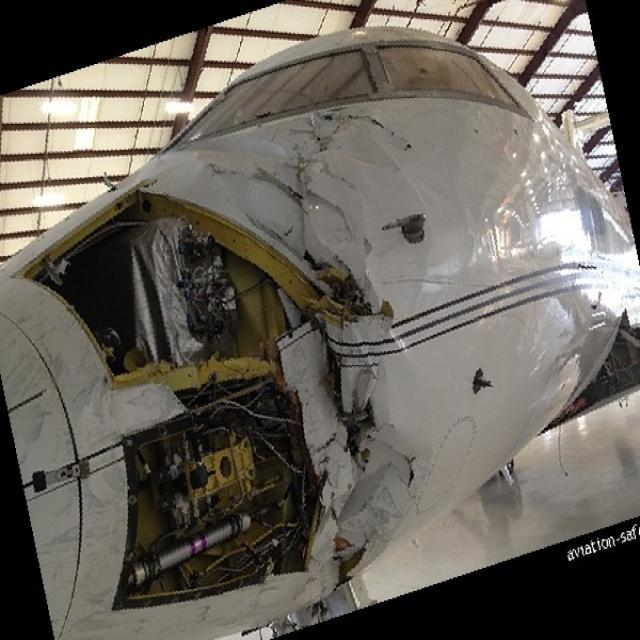crack: (323, 109, 424, 153), (368, 434, 421, 490)
dent: (324, 133, 399, 177), (207, 163, 247, 216)
